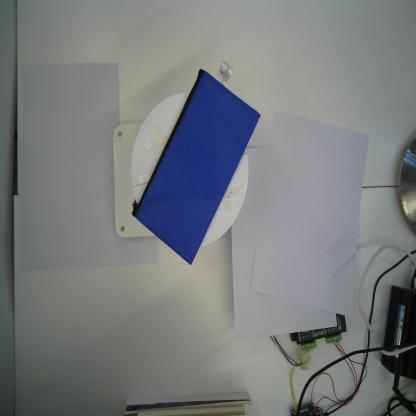Stationery: (130, 58, 261, 266)
